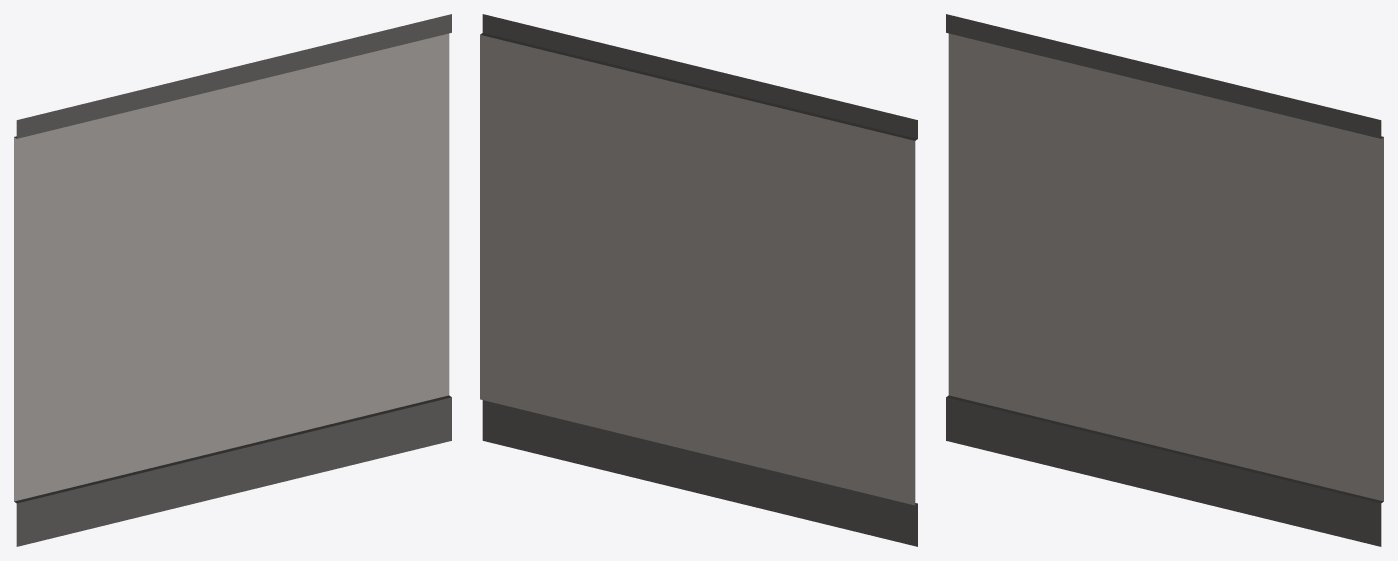
Rendered from SO_Wall_01.fbx.
The picture shows the model from 3 angles, left to right: view 1: azimuth 30°, elevation 25°; view 2: azimuth 150°, elevation 25°; view 3: azimuth 330°, elevation 25°; orthographic projection.
Visible parts, largest first — view 1: SO_Wall; view 2: SO_Wall; view 3: SO_Wall.
Part boxes in pixels (x1,y1,x2,y2): SO_Wall: (14,14,451,546); SO_Wall: (480,14,917,546); SO_Wall: (946,14,1383,546).
Size of the model in its own units: 5 by 4.69 by 0.0549.
